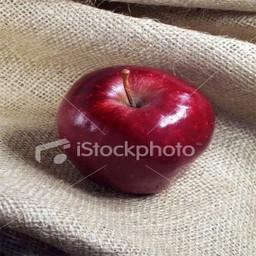apple: (55, 65, 215, 194)
